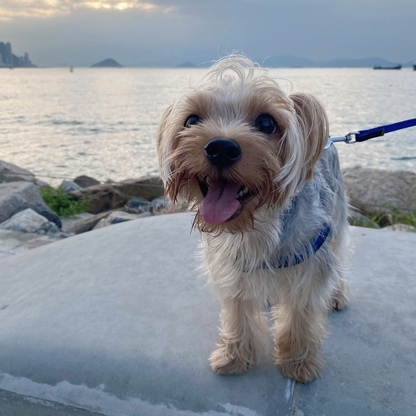yorkshire: (157, 51, 348, 387)
